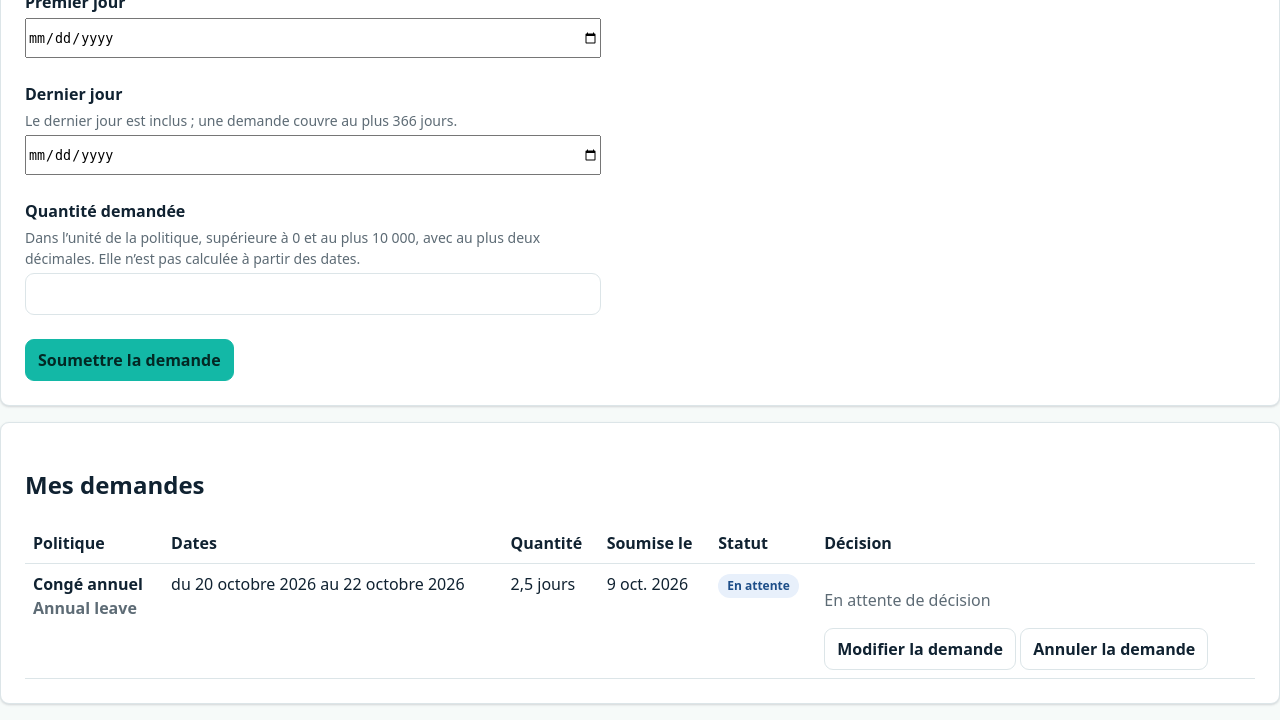
MVP-041D amend my leave request (fr) › shows a refused amendment without echoing it (0)
(page scrolled)
Step 1. Click the button with test id "amend-request" → point(920, 649), box [824,628,1016,670]
(page scrolled)
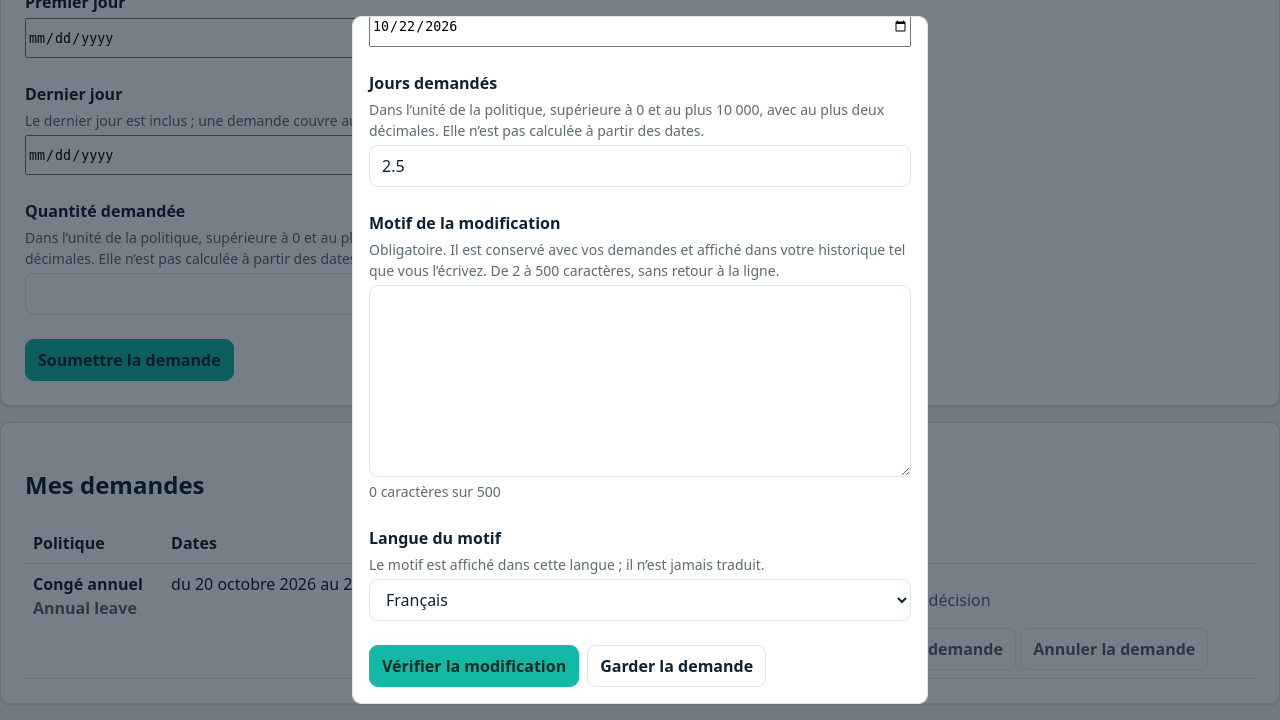
Step 2. Type "Nouvelles dates secrètes." into the text box labelled "Motif de la modification" → point(640, 381), box [369,285,911,477]
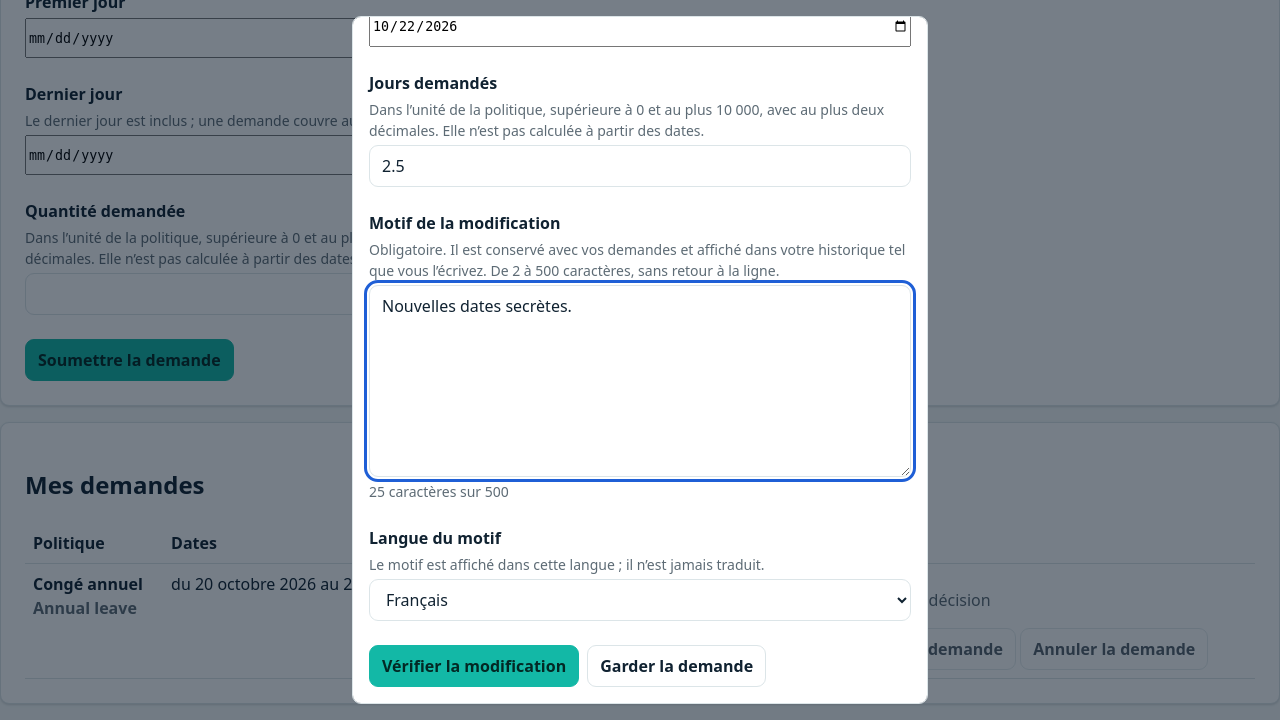
Step 3. Click the button "Vérifier la modification" → point(474, 666), box [369,645,579,687]
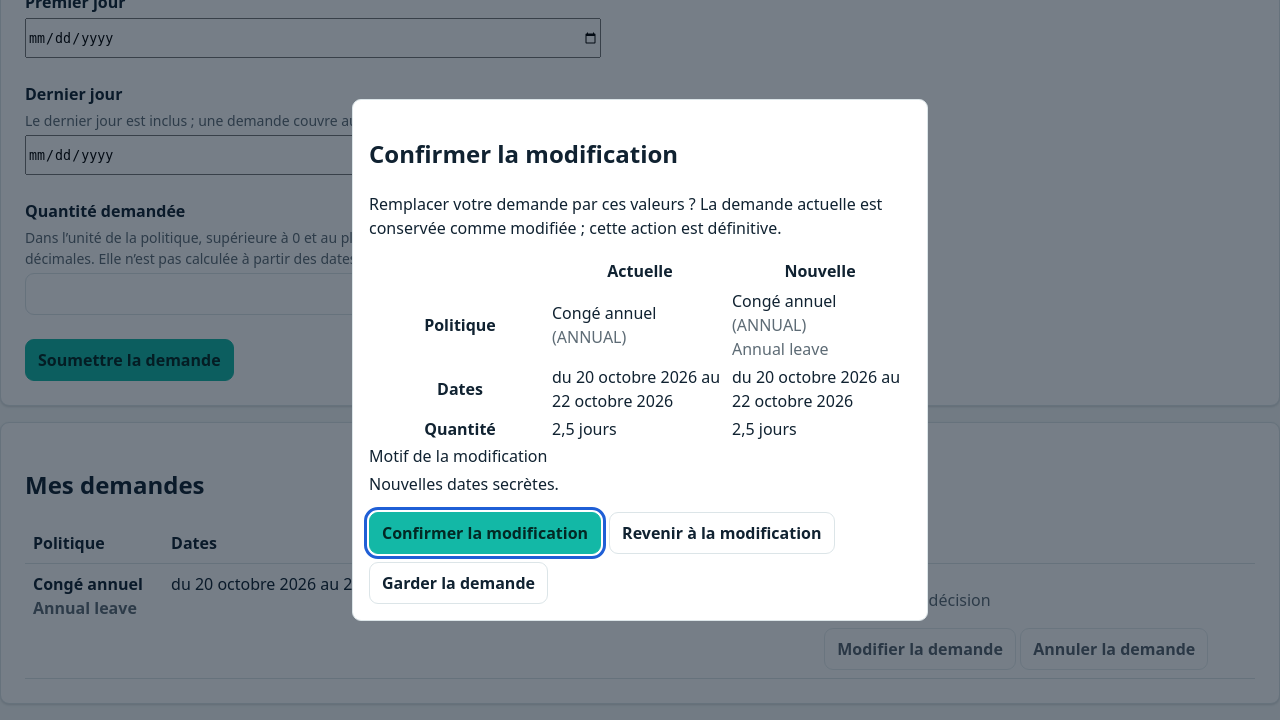
Step 4. Click the button "Confirmer la modification" → point(485, 533), box [369,512,601,554]
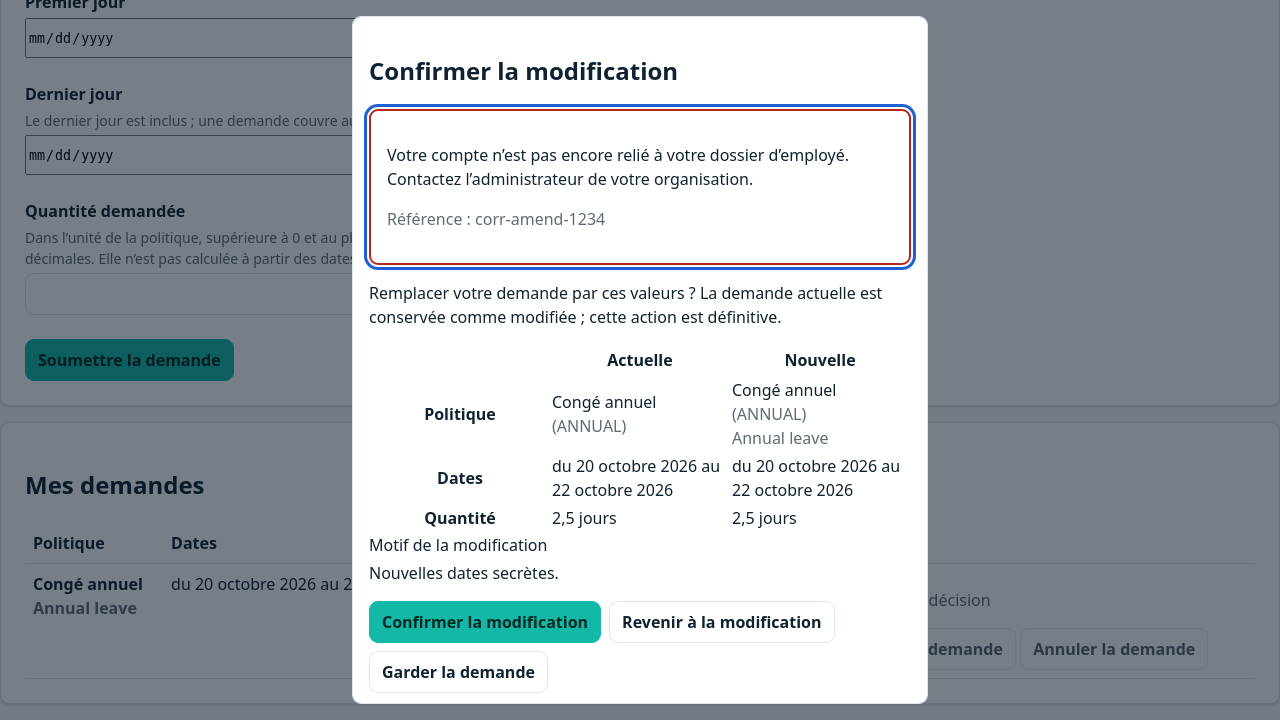
Expected: the message with test id "amend-error" does not show "secrètes", [369,109,911,265]
Expected: the message with test id "amend-error" shows "corr-amend-1234", [387,208,605,230]
